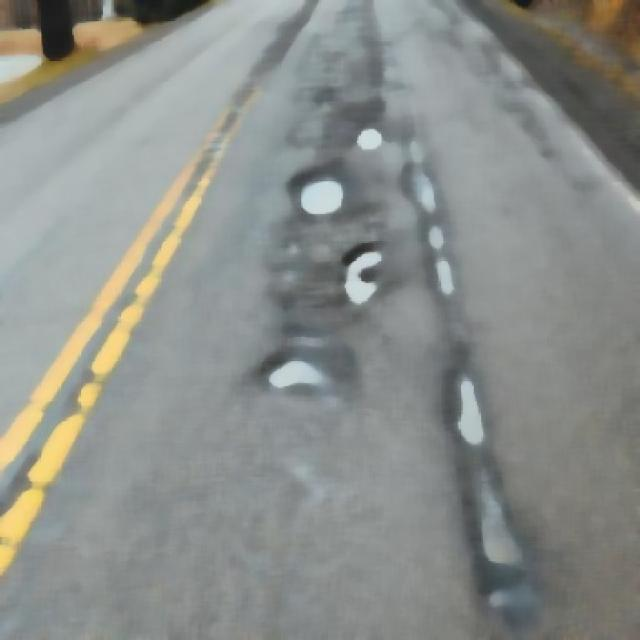Pothole: (257, 329, 346, 413), (338, 238, 398, 313), (288, 171, 348, 224), (348, 104, 387, 168)
